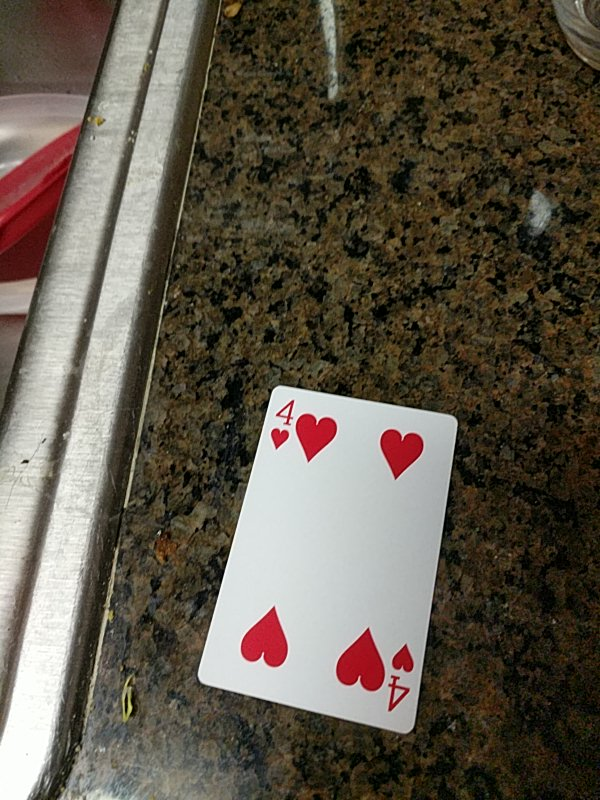Hearts: (196, 381, 456, 738)
